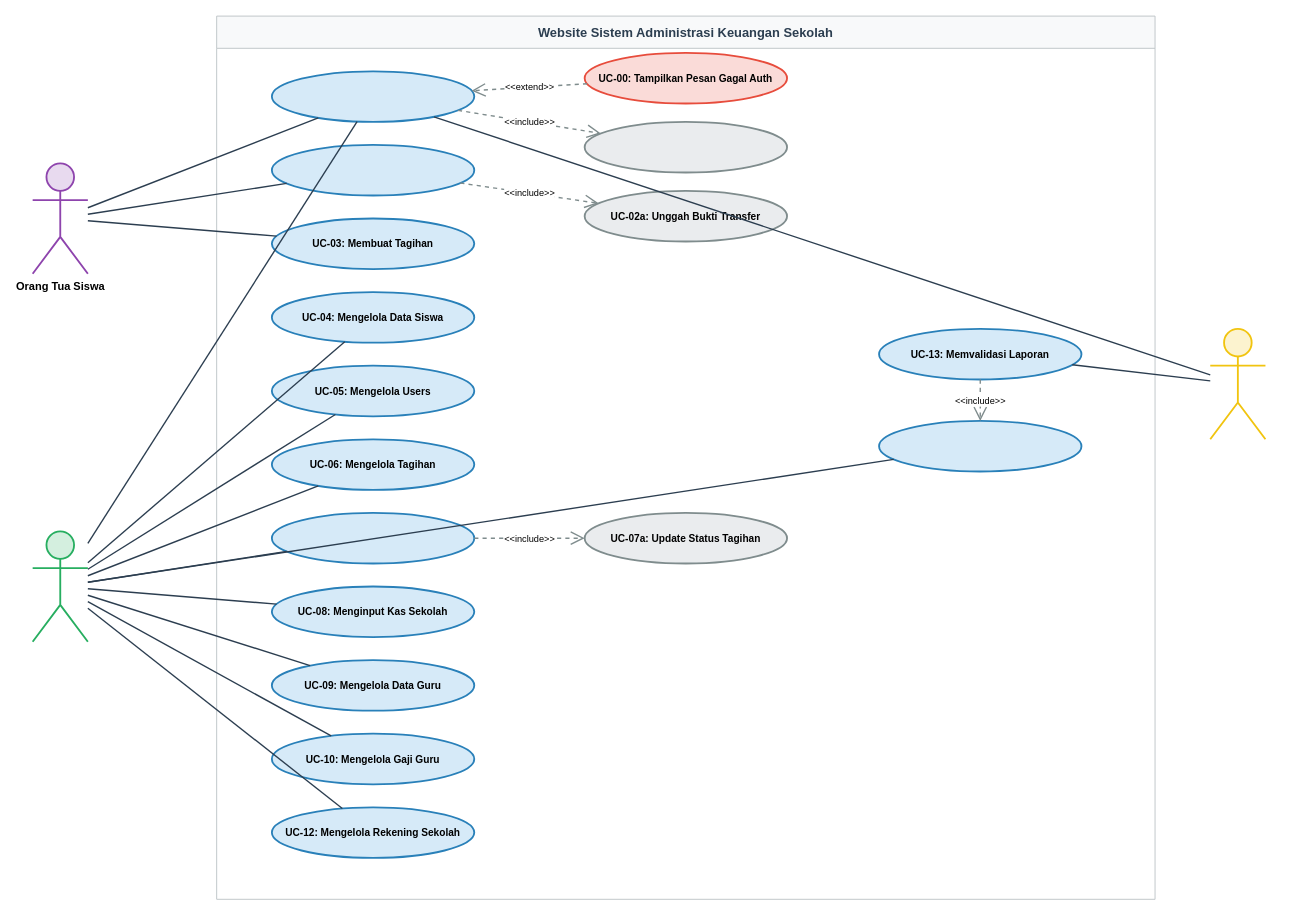
The diagram is 1294 pixels wide and 915 high, and some of its shapes have lost their labels. Each missing label, with the box of its shape:
Admin Sekolah: (31, 530, 88, 642)
Kepala Sekolah: (1209, 328, 1266, 440)
UC-01: Login: (270, 70, 475, 122)
UC-01a: Verifikasi Kredensial: (583, 121, 788, 173)
UC-02: Menginput Pembayaran: (270, 144, 475, 196)
UC-07: Memvalidasi Pembayaran: (270, 512, 475, 564)
UC-11: Merekapitulasi Pembayaran: (878, 420, 1082, 472)
